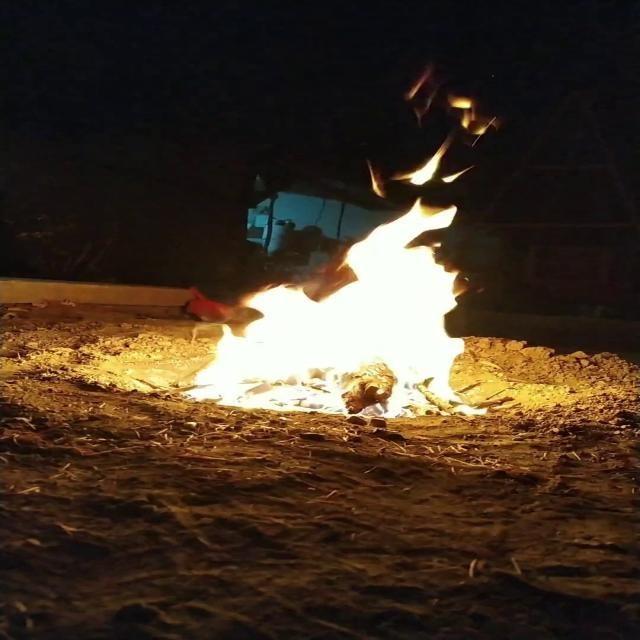Fire: (184, 156, 493, 417)
